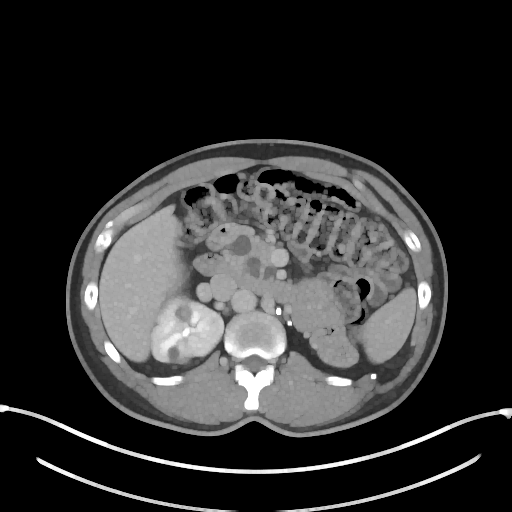Lesion: (174, 304, 193, 324)
